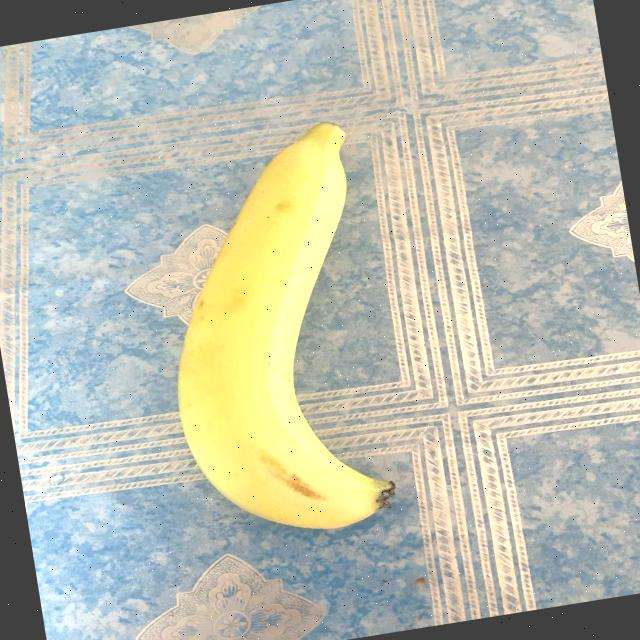Ripe: (52, 21, 570, 606)
